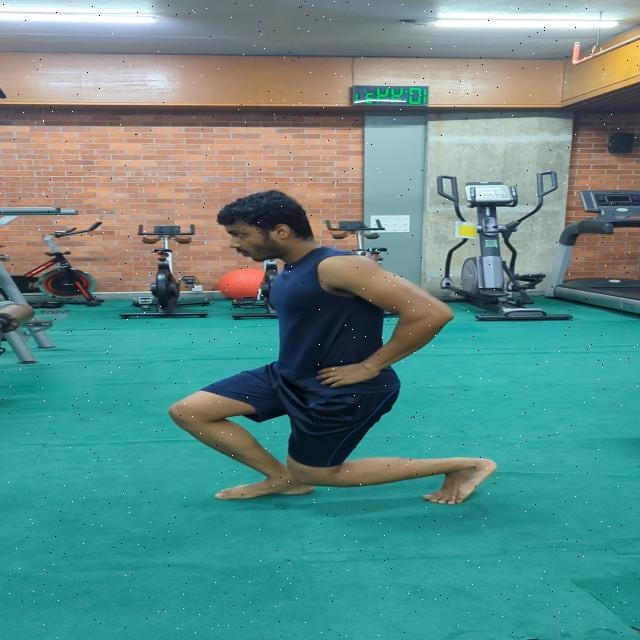Normal_Lunges: (136, 183, 506, 514)
